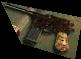gun: (1, 1, 81, 59)
